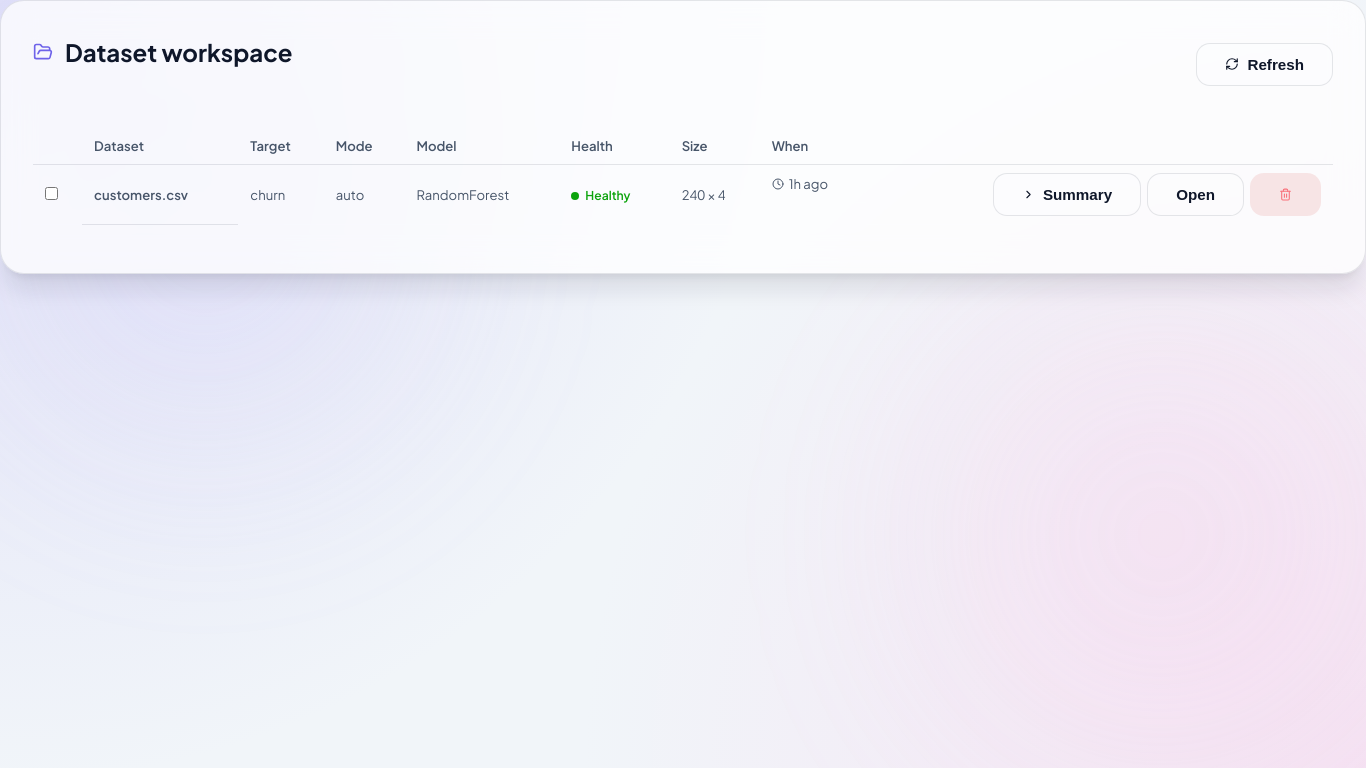
Test: Workspace run preview › reports a summary that could not be loaded
What coordinates should you click on to do the following:
click the button with aria-label "Summary of customers.csv"
I would click on:
 (1067, 195)
Its box is [993, 173, 1141, 216].
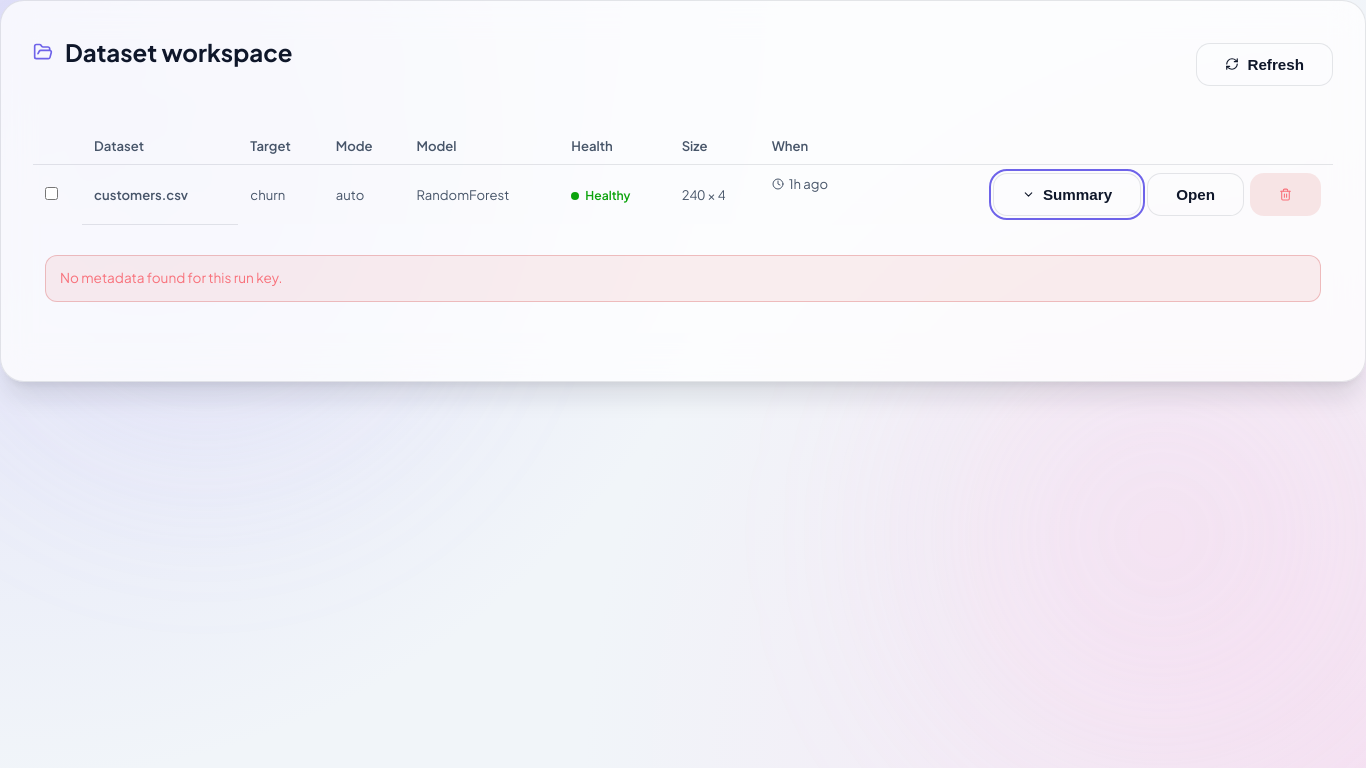
Expected: the column heading "customers.csv" is shown, [82, 165, 238, 225]
Now the text "No metadata found for this run key." is shown, box [45, 255, 1321, 302]
